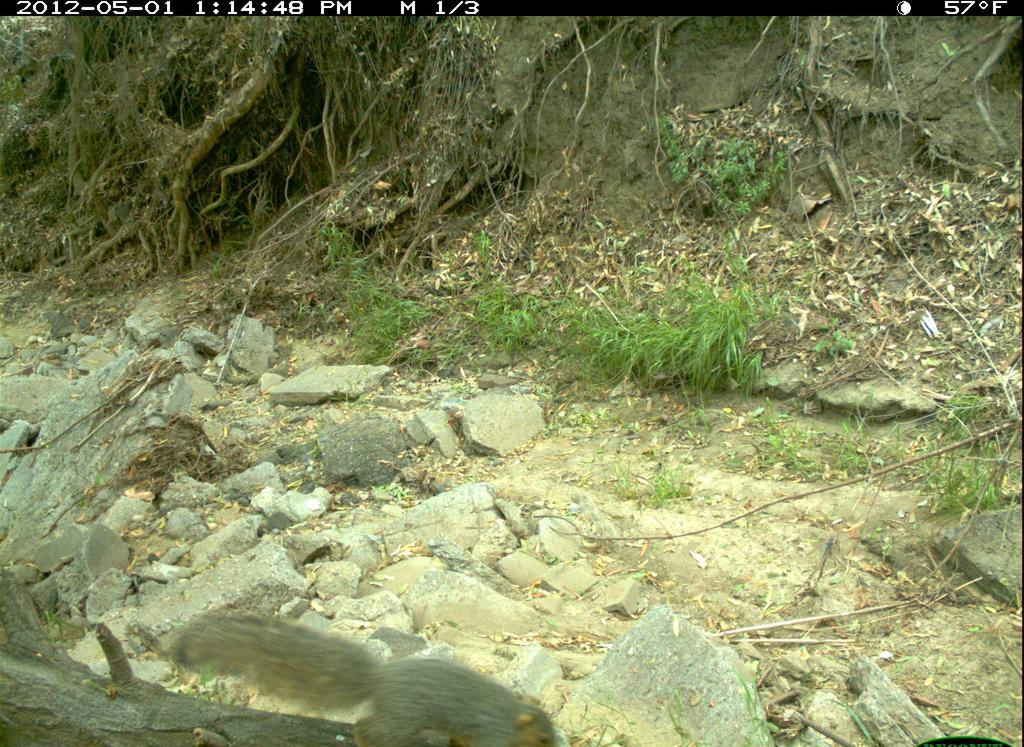squirrel: (162, 606, 589, 747)
